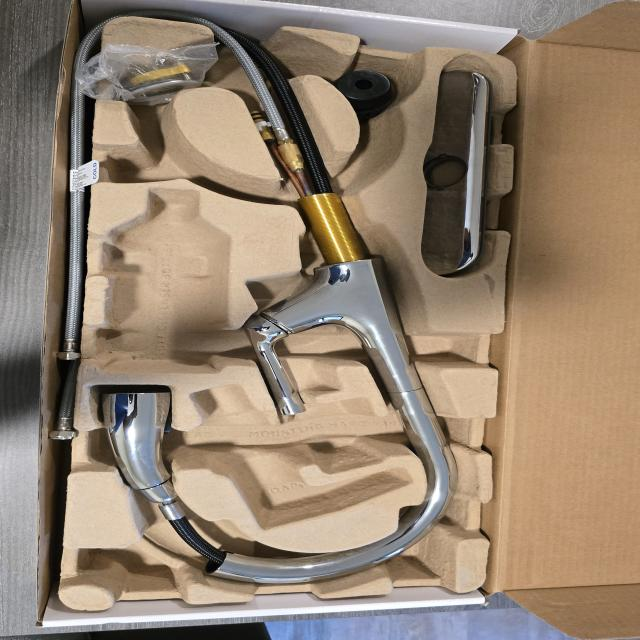1: (99, 21, 461, 584)
2m: (189, 385, 411, 528)
3m: (103, 187, 230, 371)
4: (424, 70, 486, 276)
5: (333, 69, 399, 115)
6: (80, 40, 226, 108)
7m: (108, 122, 251, 195)
